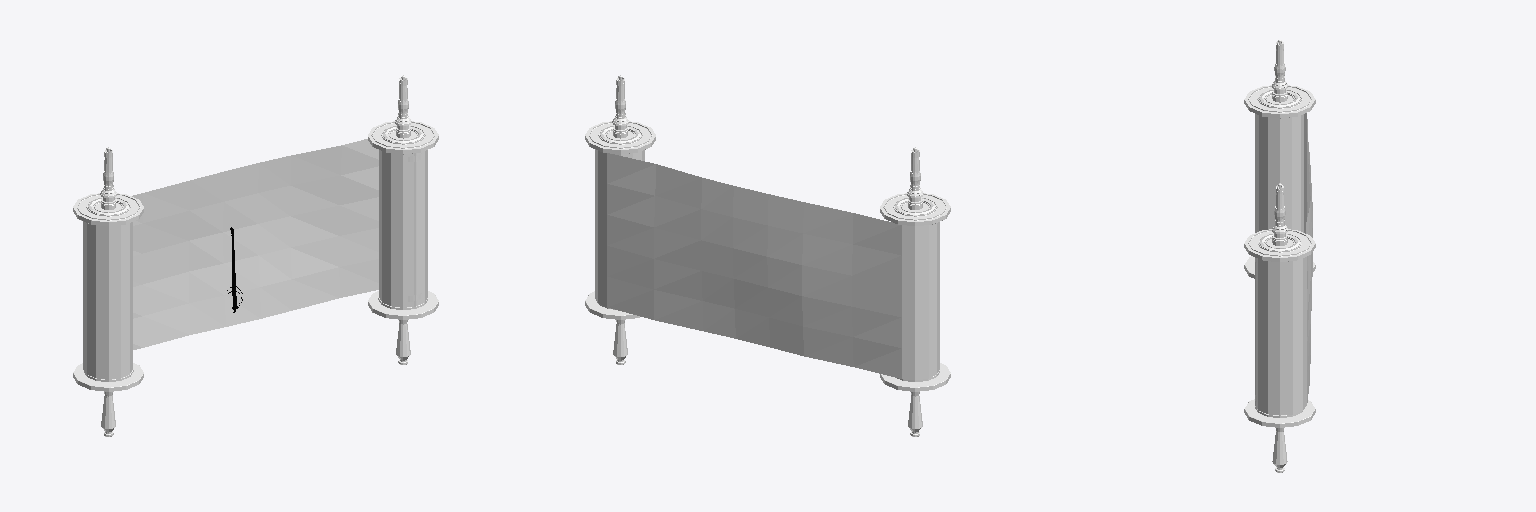
The model's file is Torah_Scroll.obj.
The picture shows the model from 3 angles: view 1: azimuth 30°, elevation 25°; view 2: azimuth 150°, elevation 25°; view 3: azimuth 270°, elevation 25°; orthographic projection.
Parts seen in each view (by area): view 1: Manuscript_pivot, Rollers_pivot, Handles_pivot; view 2: Manuscript_pivot, Rollers_pivot, Handles_pivot; view 3: Manuscript_pivot, Rollers_pivot, Handles_pivot.
Part boxes in pixels (left/top/right/bottom): Manuscript_pivot: left=83, top=139, right=427, bottom=379; Rollers_pivot: left=73, top=121, right=438, bottom=391; Handles_pivot: left=100, top=75, right=411, bottom=436; Manuscript_pivot: left=595, top=149, right=939, bottom=380; Rollers_pivot: left=585, top=121, right=950, bottom=391; Handles_pivot: left=612, top=75, right=923, bottom=436; Manuscript_pivot: left=1255, top=113, right=1312, bottom=415; Rollers_pivot: left=1244, top=85, right=1315, bottom=427; Handles_pivot: left=1272, top=40, right=1287, bottom=472.
Size of the model in its own units: 108 by 83.74 by 18.75.